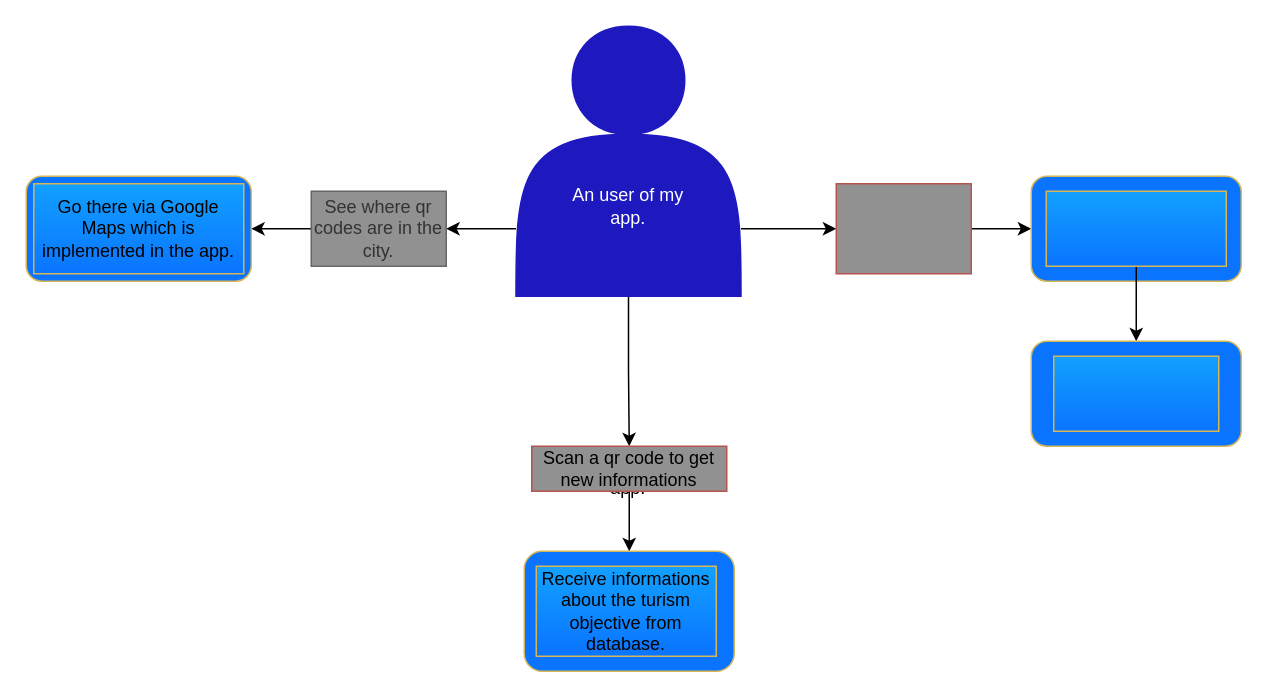
The diagram is 1268 pixels wide and 698 high, and some of its shapes have lost their labels. Here are the shapes that lost their labels. From the top down, the centre of each, then its label:
At point (903, 228): "See every events which are in the city.".
At point (1135, 228): "Get all events added in the FireBase database.".
At point (1135, 393): "Watch them all in the 'evens' fragment.".
